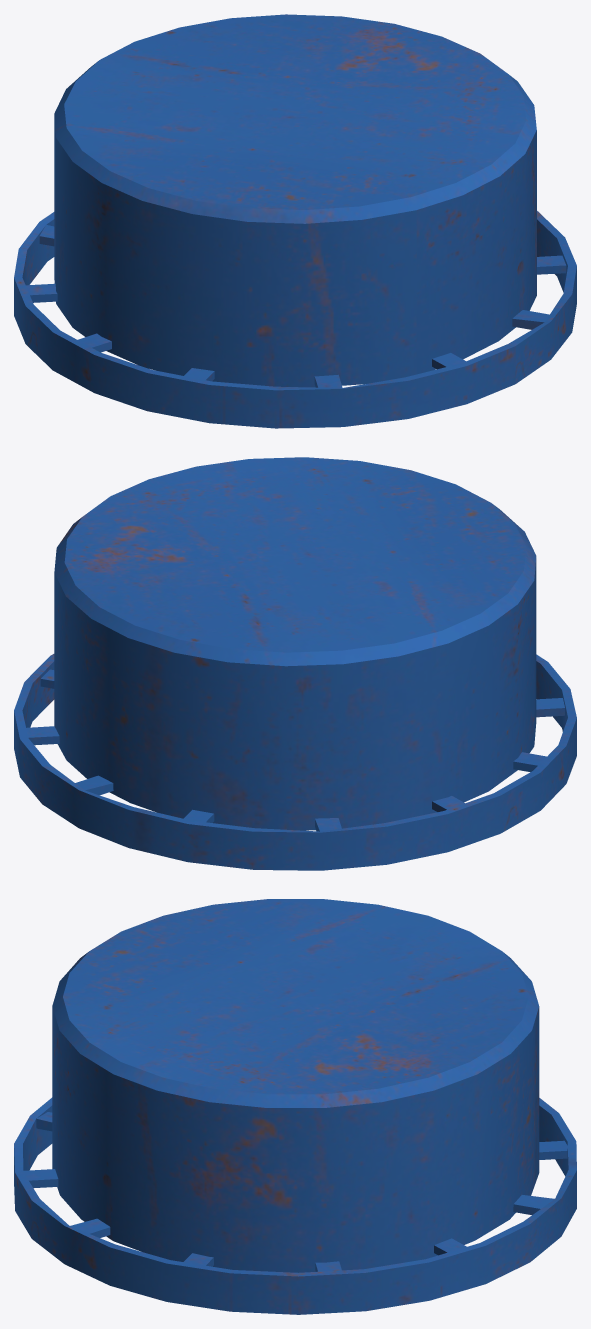
The model's file is SM_碱性废液桶盖子_001.fbx.
3 renders of one model, top to bottom at view 1: azimuth 30°, elevation 25°; view 2: azimuth 150°, elevation 25°; view 3: azimuth 270°, elevation 25°, orthographic.
Visible parts, largest first — view 1: SM_碱性废液桶盖子_001; view 2: SM_碱性废液桶盖子_001; view 3: SM_碱性废液桶盖子_001.
Boxes of the visible parts, x1,y1,x2,y2 form: SM_碱性废液桶盖子_001: [14, 14, 576, 428]; SM_碱性废液桶盖子_001: [14, 457, 576, 870]; SM_碱性废液桶盖子_001: [14, 899, 576, 1314].
Size of the model in its own units: 0.0975 by 0.0377 by 0.0969.
